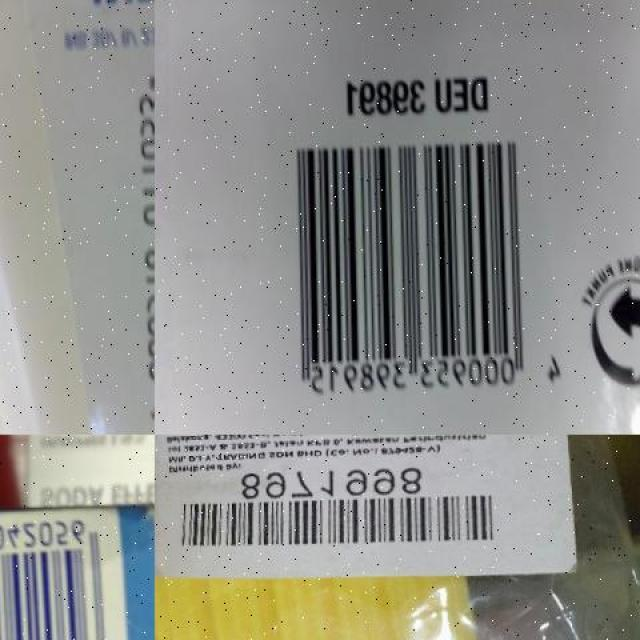Barcode: (276, 112, 572, 416), (165, 461, 514, 559), (0, 501, 130, 639), (124, 44, 155, 435)
